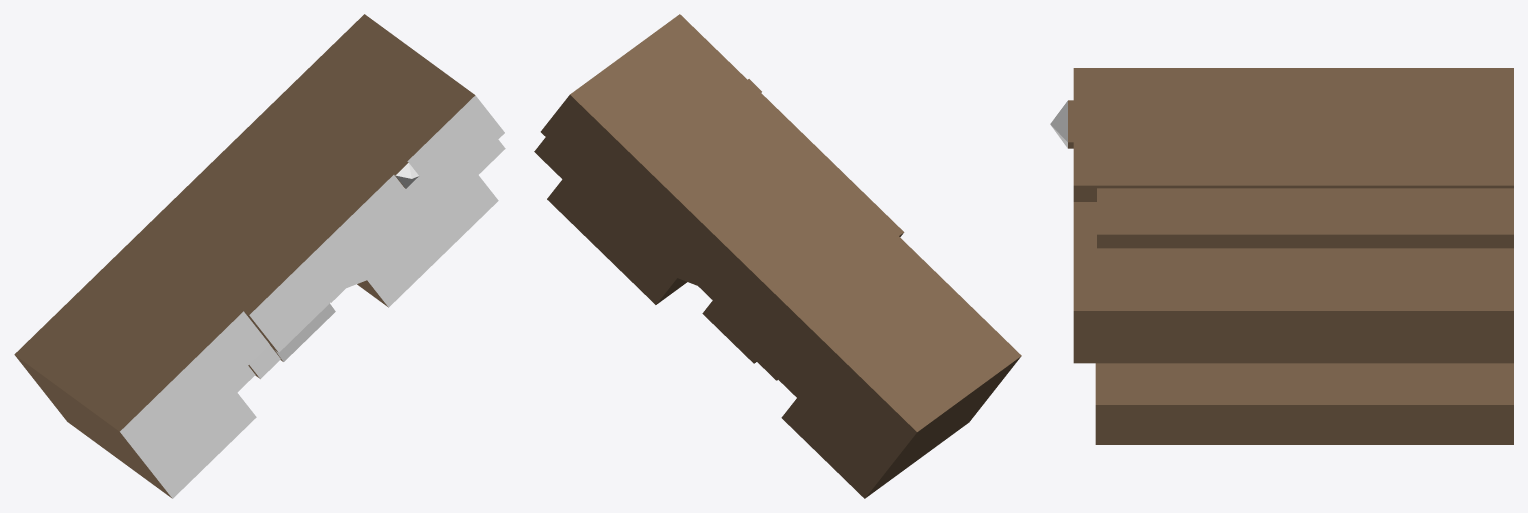
3 renders of one model, left to right at view 1: azimuth 30°, elevation 25°; view 2: azimuth 150°, elevation 25°; view 3: azimuth 270°, elevation 25°, orthographic. The views are drawn at different scales.
Visible parts, largest first — view 1: City_PC-08614; view 2: City_PC-08614; view 3: City_PC-08614.
Part boxes in pixels (x1,y1,x2,y2): City_PC-08614: (14,14,505,498); City_PC-08614: (534,14,1021,498); City_PC-08614: (1050,68,1513,444).
Bounding box in the file's own units: 3052 × 2532 × 1600.
